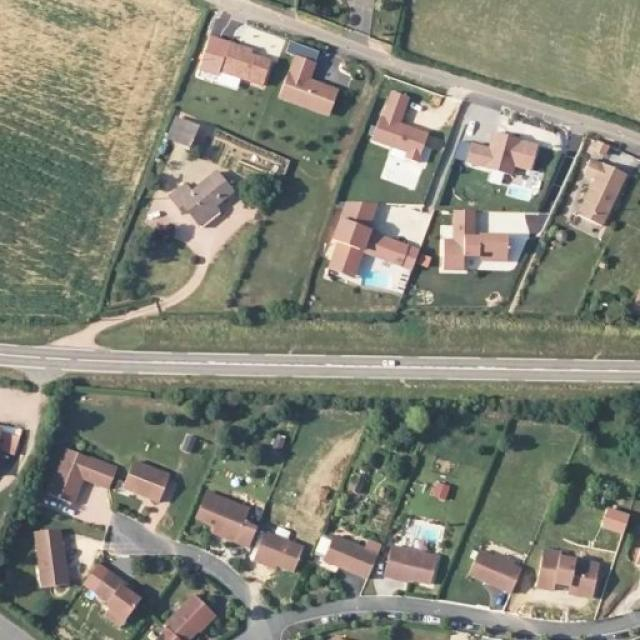maison: (139, 126, 283, 242), (44, 447, 184, 535), (536, 498, 631, 608), (327, 198, 428, 298), (381, 478, 471, 590), (462, 109, 570, 180), (362, 88, 445, 180), (564, 141, 633, 237), (198, 20, 280, 92), (442, 204, 522, 274), (79, 558, 159, 627), (278, 48, 348, 116), (190, 483, 262, 548), (467, 531, 529, 599), (141, 591, 227, 638), (320, 519, 378, 587), (22, 523, 80, 590), (245, 525, 313, 573)
piscine: (356, 256, 401, 292), (412, 521, 449, 547), (500, 182, 540, 206)
